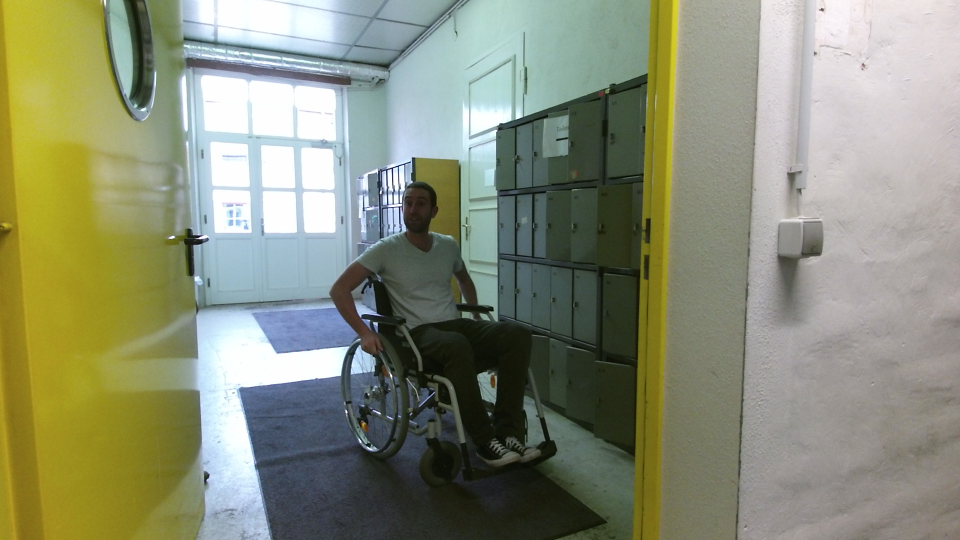wheelchair: (324, 176, 571, 495)
